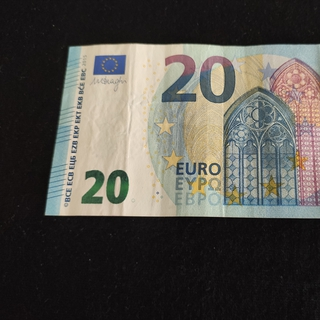20EUROFront: (42, 43, 320, 218)
